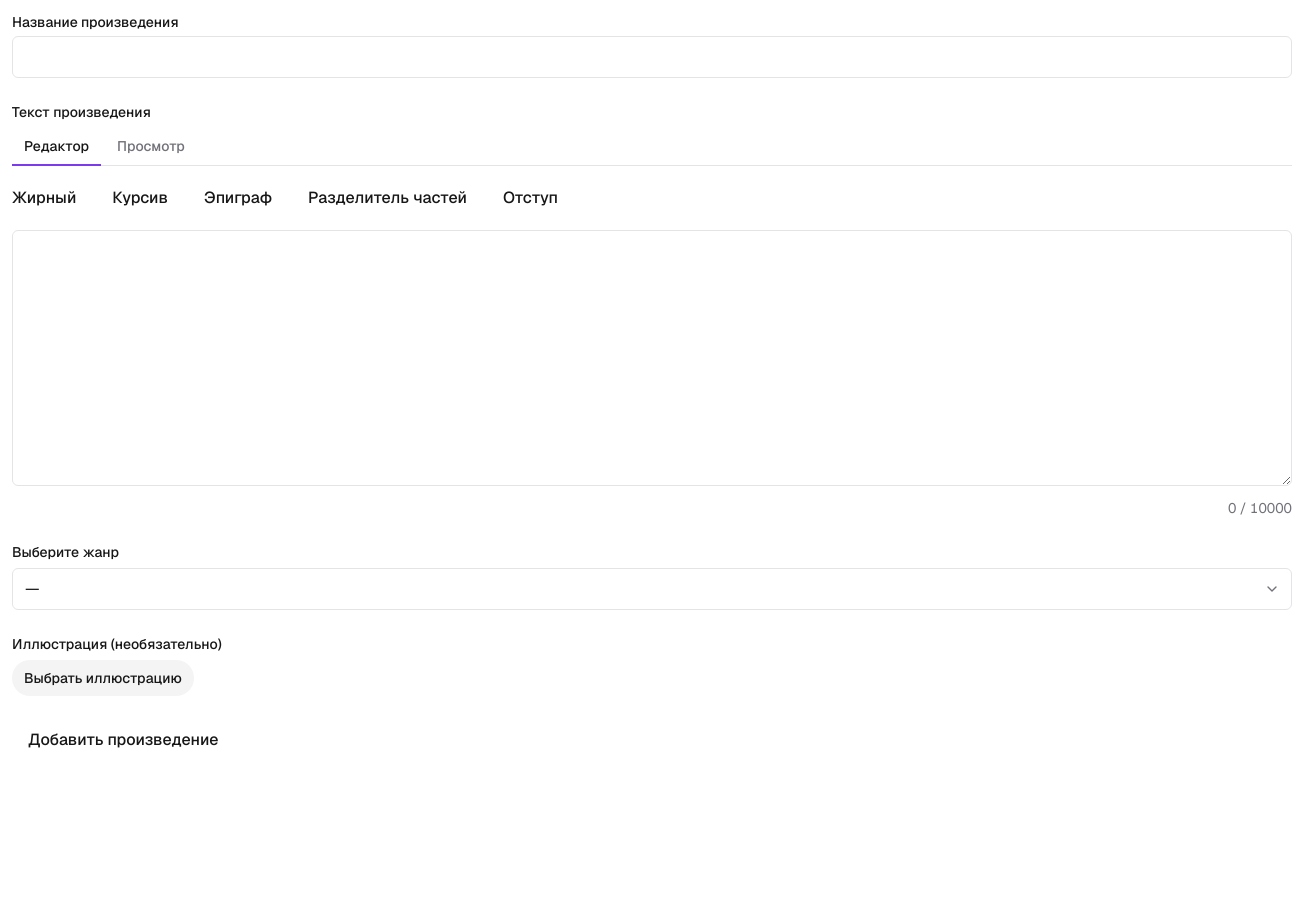
NewPoemForm › shows «Обязательное поле.» under the title, text, and genre on an empty submit, sends nothing, and focuses the title
This screenshot has width=1304, height=912.
What coordinates should you click on to do the following:
click the button "Добавить произведение"
I would click on:
 (123, 740)
Its box is [12,720,234,760].
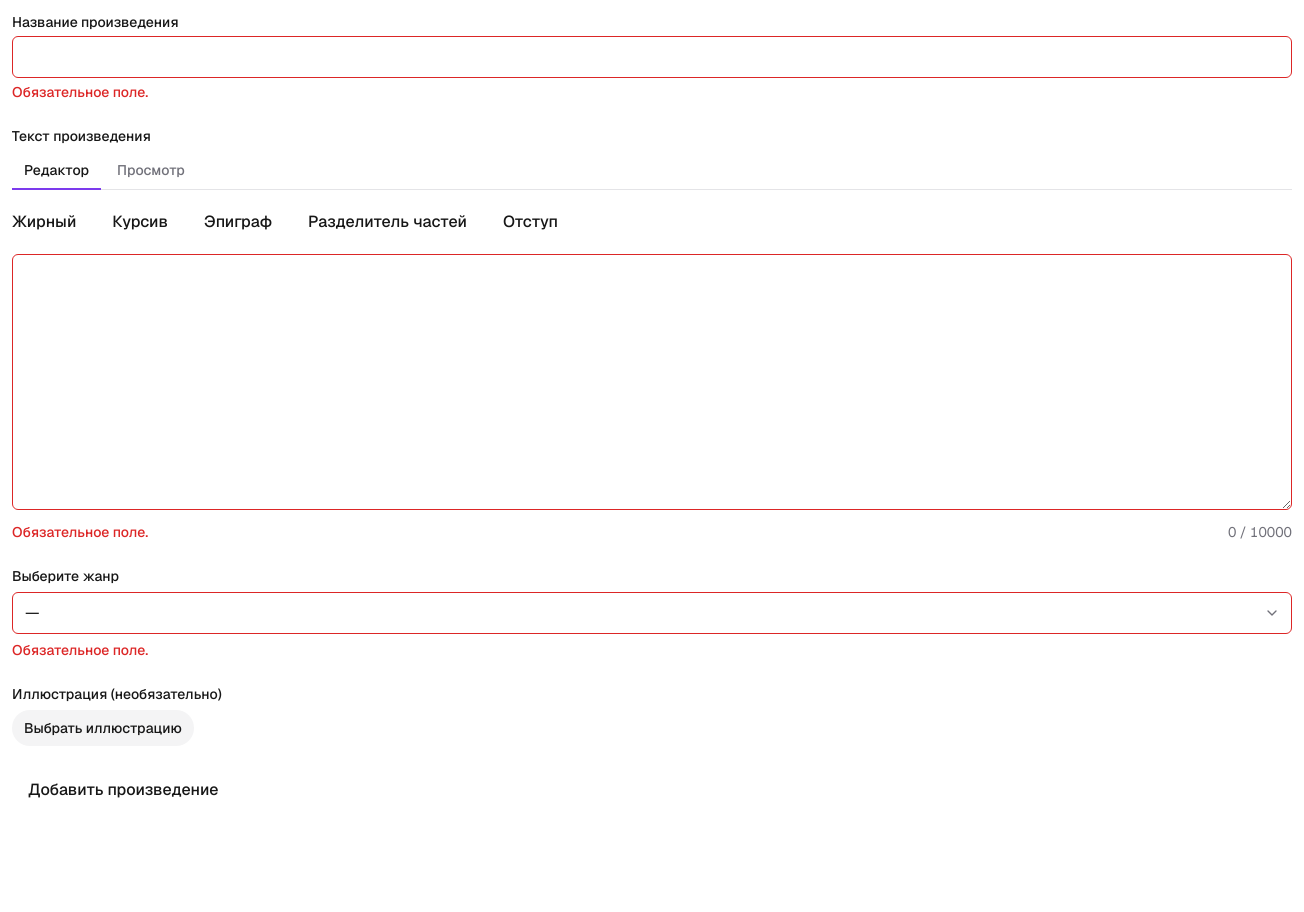
Expected: the text "Обязательное поле." below "Выберите жанр" is shown, [12,641,148,659]
Expected: the text "Обязательное поле." is shown 3 times, [12,83,148,101]; [12,522,148,542]; [12,641,148,659]
